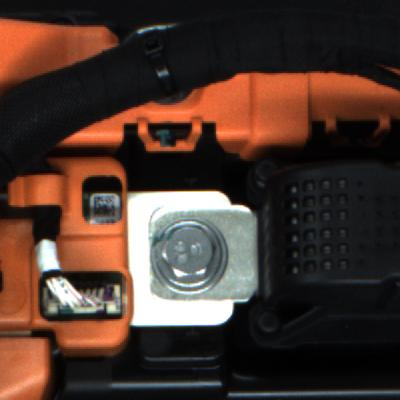nut_b: (145, 216, 240, 299)
